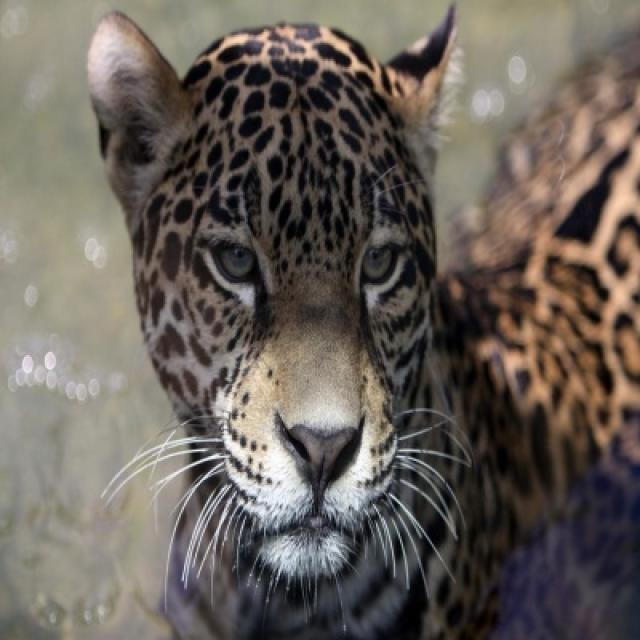Jaguar: (85, 6, 560, 638)
